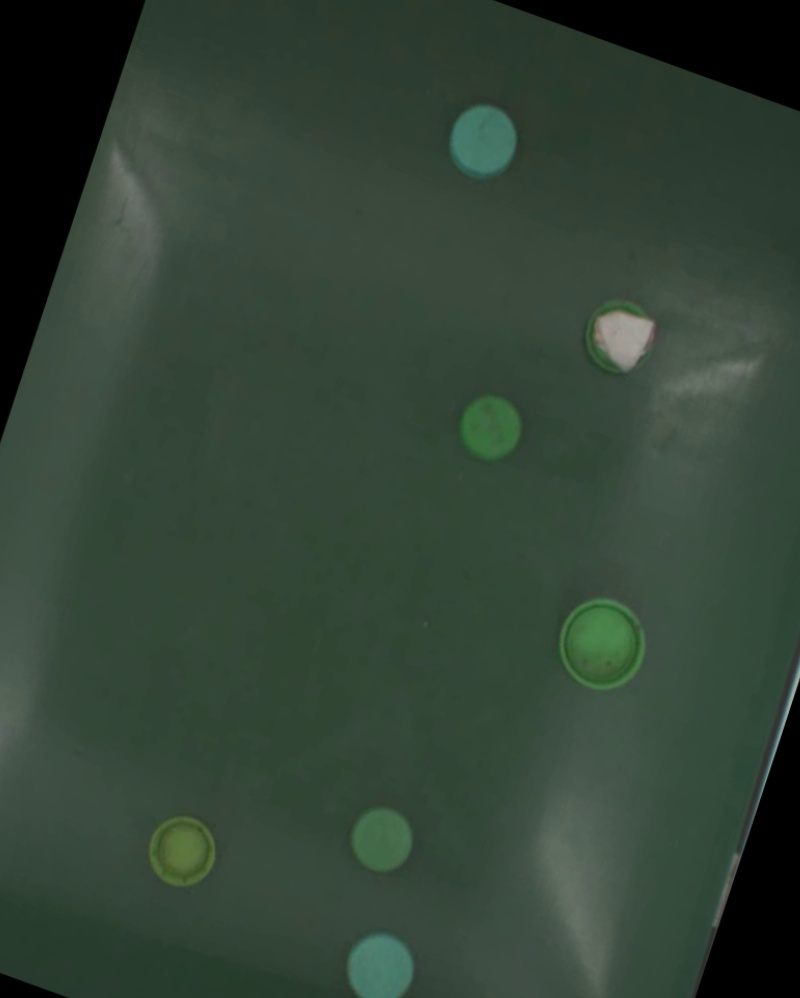Others: (547, 586, 658, 702), (439, 97, 526, 189), (139, 806, 227, 896), (576, 293, 662, 381), (337, 922, 425, 998), (451, 386, 531, 467), (342, 798, 422, 879)
